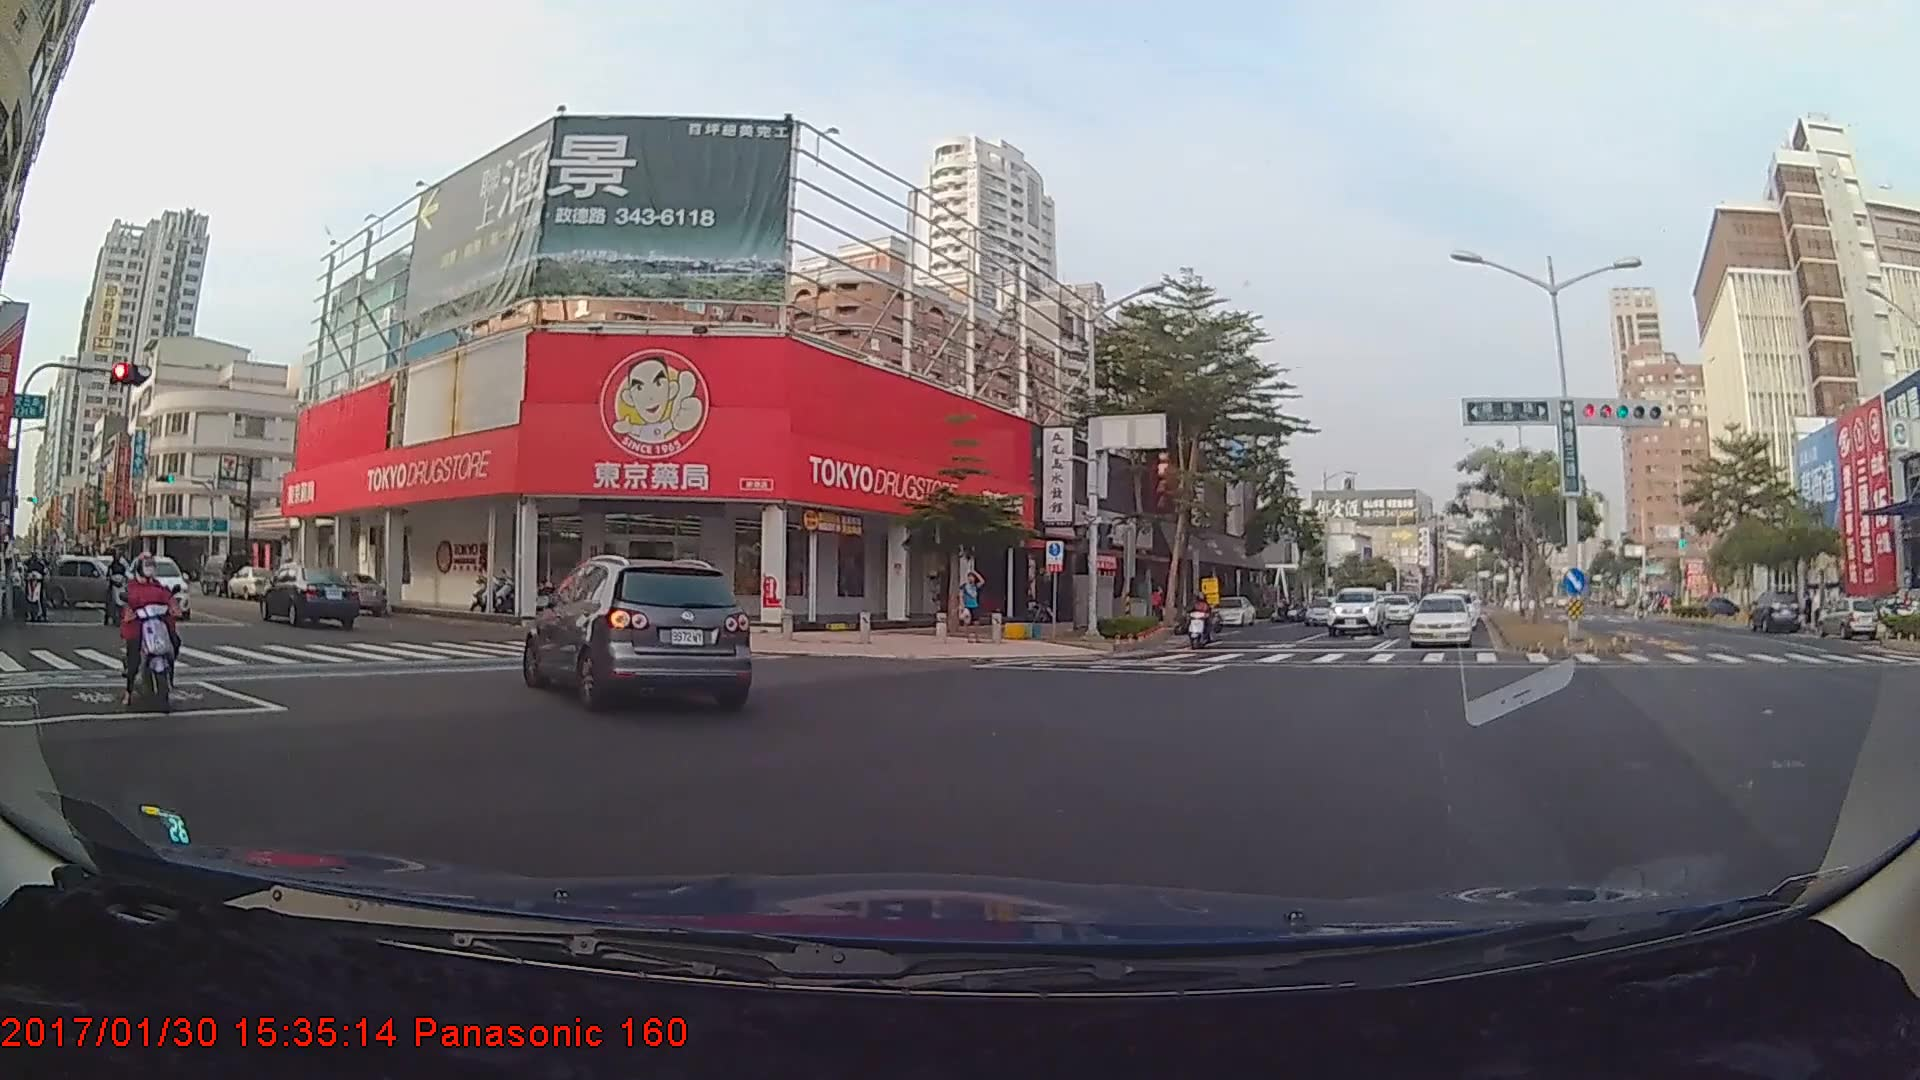pedestrian: (960, 568, 987, 643)
rider: (109, 549, 187, 736), (107, 550, 146, 634), (1182, 588, 1220, 650), (23, 543, 49, 621)
vehicle: (527, 552, 752, 710), (262, 563, 359, 630), (44, 554, 139, 607), (125, 556, 192, 620), (310, 571, 388, 614), (1409, 592, 1470, 646), (1325, 585, 1385, 635), (1747, 589, 1799, 631), (1205, 594, 1253, 625), (1304, 593, 1337, 626), (1377, 592, 1412, 623)
